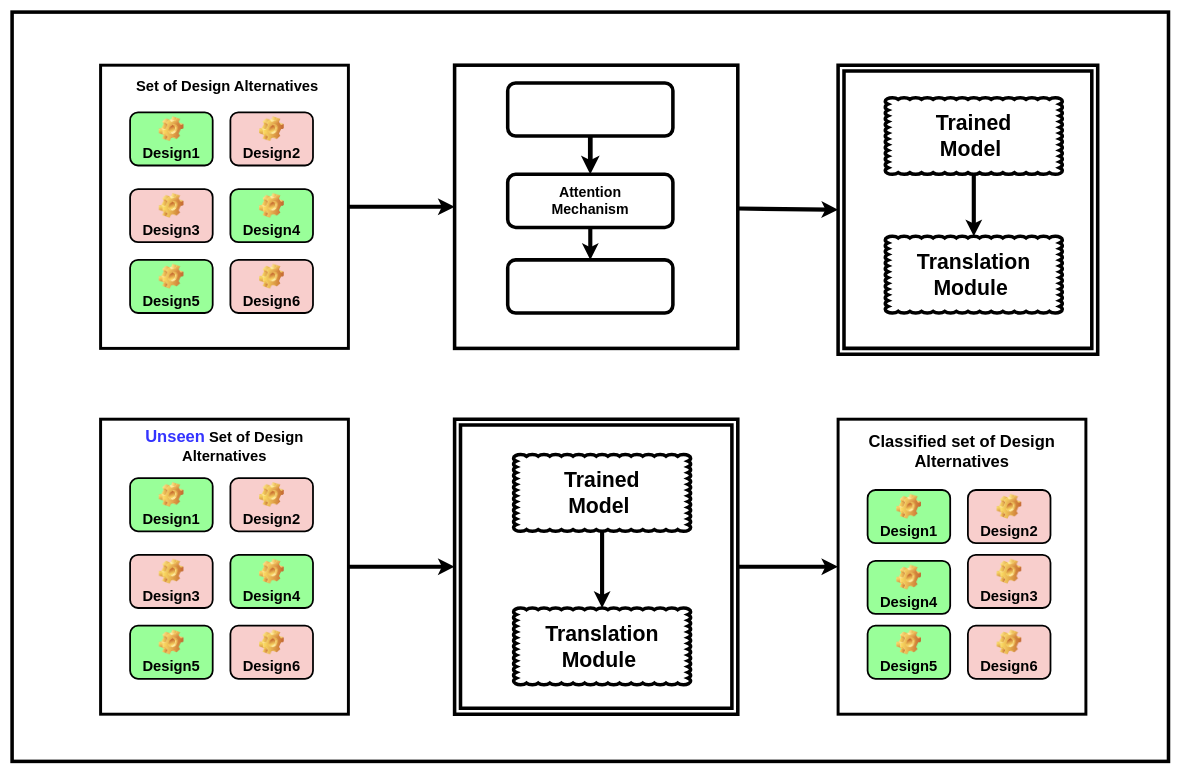
The diagram is 1180 pixels wide and 773 high, and some of its shapes have lost their labels. Each missing label, with the centre of its shape:
Decoder: the point at 590,286
Encoder: the point at 590,109
